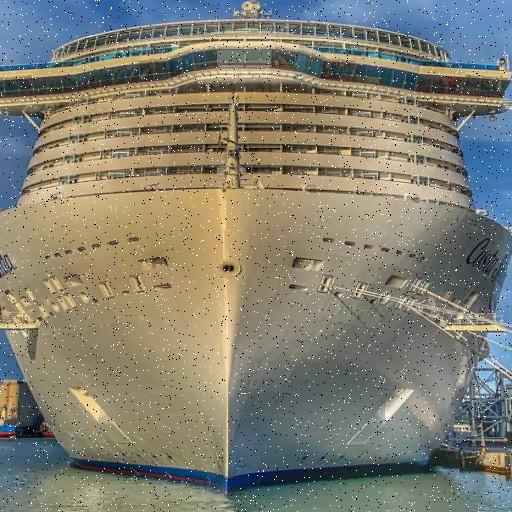cruises: (1, 1, 512, 492)
